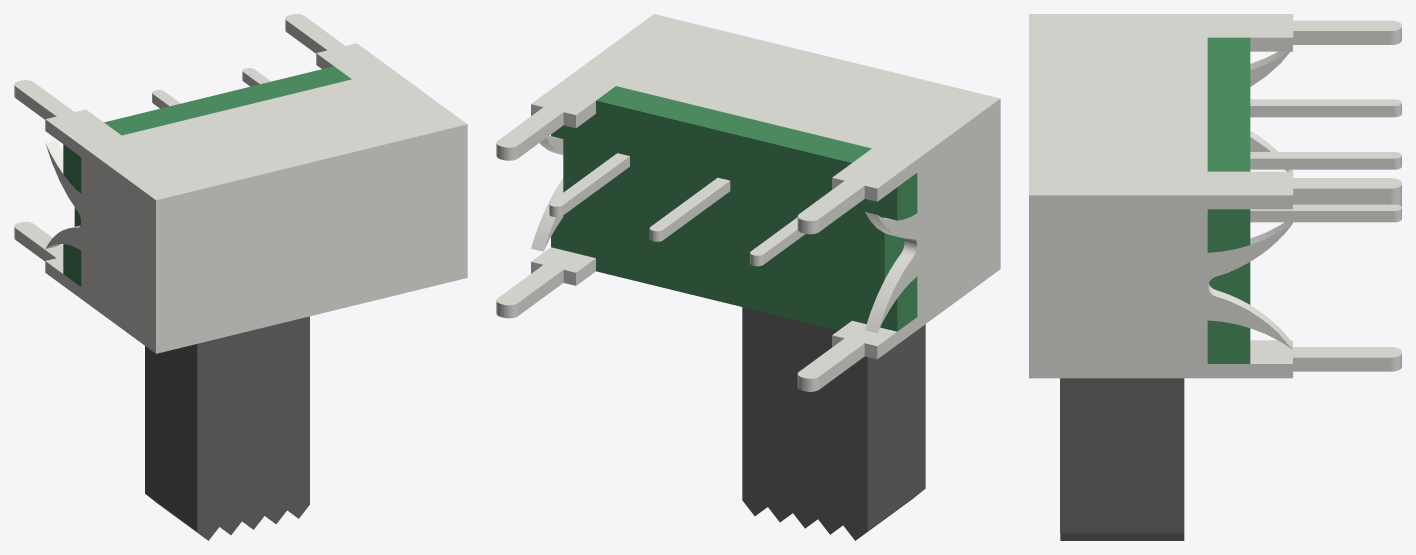
Rendered from SW_E-Switch_EG1224_SPDT_Angled.glb.
3 views of the same model, side by side, from view 1: azimuth 30°, elevation 25°; view 2: azimuth 150°, elevation 25°; view 3: azimuth 270°, elevation 25° (orthographic). The views are drawn at different scales.
Visible parts, largest first — view 1: Shape_IndexedFaceSet.018, Shape_IndexedFaceSet.003, Shape_IndexedFaceSet.097, Shape_IndexedFaceSet.004, Shape_IndexedFaceSet.098, Shape_IndexedFaceSet.022, Shape_IndexedFaceSet.030, Shape_IndexedFaceSet.029, Shape_IndexedFaceSet.028; view 2: Shape_IndexedFaceSet.011, Shape_IndexedFaceSet.003, Shape_IndexedFaceSet.095, Shape_IndexedFaceSet.004, Shape_IndexedFaceSet.098, Shape_IndexedFaceSet.022, Shape_IndexedFaceSet.038, Shape_IndexedFaceSet.030, Shape_IndexedFaceSet.024, Shape_IndexedFaceSet.049, Shape_IndexedFaceSet.052, Shape_IndexedFaceSet.028 (+8 smaller); view 3: Shape_IndexedFaceSet.003, Shape_IndexedFaceSet.016, Shape_IndexedFaceSet.096, Shape_IndexedFaceSet.022, Shape_IndexedFaceSet.038, Shape_IndexedFaceSet.047, Shape_IndexedFaceSet.040, Shape_IndexedFaceSet.048, Shape_IndexedFaceSet.059, Shape_IndexedFaceSet.055, Shape_IndexedFaceSet.012, Shape_IndexedFaceSet.070 (+8 smaller).
Part boxes in pixels (bbox=[...]): Shape_IndexedFaceSet.018: bbox=[156, 124, 467, 353]; Shape_IndexedFaceSet.003: bbox=[14, 14, 466, 200]; Shape_IndexedFaceSet.097: bbox=[197, 316, 309, 540]; Shape_IndexedFaceSet.004: bbox=[45, 119, 155, 353]; Shape_IndexedFaceSet.098: bbox=[145, 344, 197, 531]; Shape_IndexedFaceSet.022: bbox=[104, 66, 351, 135]; Shape_IndexedFaceSet.030: bbox=[14, 222, 63, 273]; Shape_IndexedFaceSet.029: bbox=[63, 144, 81, 193]; Shape_IndexedFaceSet.028: bbox=[63, 244, 81, 286]; Shape_IndexedFaceSet.011: bbox=[551, 100, 897, 331]; Shape_IndexedFaceSet.003: bbox=[496, 14, 999, 221]; Shape_IndexedFaceSet.095: bbox=[742, 307, 867, 540]; Shape_IndexedFaceSet.004: bbox=[877, 98, 1000, 358]; Shape_IndexedFaceSet.098: bbox=[867, 324, 925, 530]; Shape_IndexedFaceSet.022: bbox=[596, 86, 871, 162]; Shape_IndexedFaceSet.038: bbox=[496, 247, 595, 305]; Shape_IndexedFaceSet.030: bbox=[797, 320, 896, 378]; Shape_IndexedFaceSet.024: bbox=[865, 254, 912, 332]; Shape_IndexedFaceSet.049: bbox=[649, 177, 729, 231]; Shape_IndexedFaceSet.052: bbox=[549, 153, 629, 206]; Shape_IndexedFaceSet.028: bbox=[897, 276, 917, 331]; Shape_IndexedFaceSet.003: bbox=[1029, 14, 1401, 195]; Shape_IndexedFaceSet.016: bbox=[1029, 195, 1292, 378]; Shape_IndexedFaceSet.096: bbox=[1060, 378, 1184, 533]; Shape_IndexedFaceSet.022: bbox=[1207, 37, 1250, 171]; Shape_IndexedFaceSet.038: bbox=[1250, 340, 1401, 363]; Shape_IndexedFaceSet.047: bbox=[1207, 209, 1250, 252]; Shape_IndexedFaceSet.040: bbox=[1207, 320, 1250, 363]; Shape_IndexedFaceSet.048: bbox=[1250, 158, 1394, 169]; Shape_IndexedFaceSet.059: bbox=[1250, 106, 1394, 117]; Shape_IndexedFaceSet.055: bbox=[1250, 211, 1394, 222]; Shape_IndexedFaceSet.012: bbox=[1293, 188, 1390, 202]; Shape_IndexedFaceSet.070: bbox=[1293, 357, 1390, 371].
Bounding box in the file's own units: 5.43 × 6.1 × 4.72.
